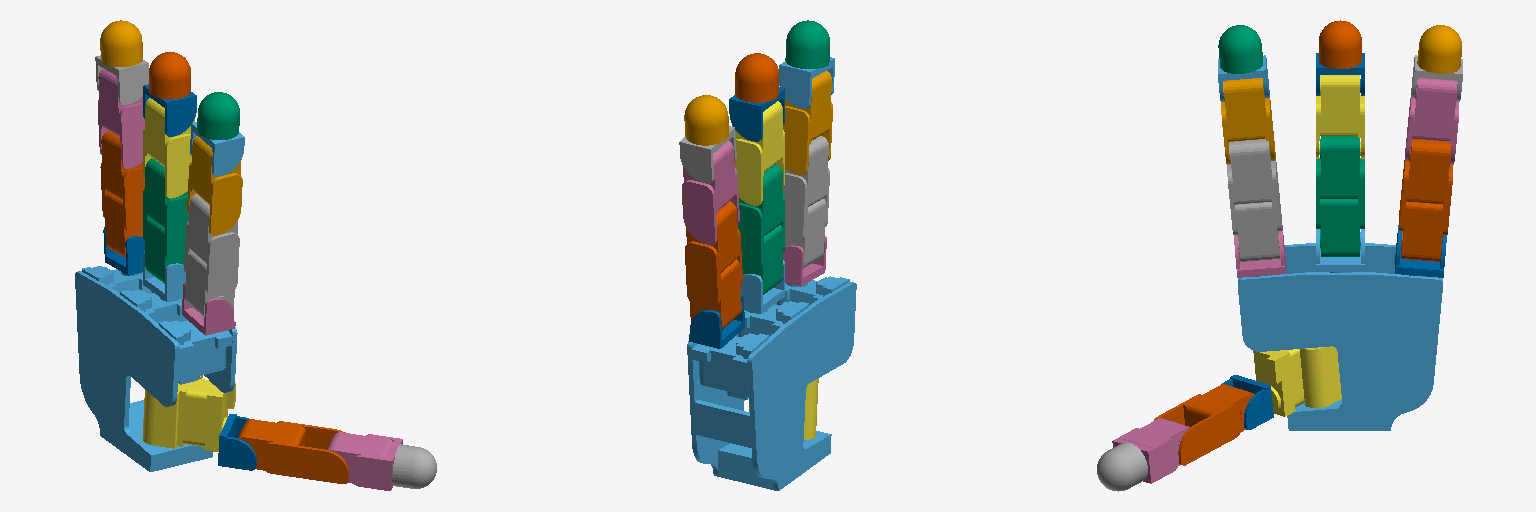
URDF robot description (allegro_left):
<?xml version='1.0' encoding='utf-8'?>
<robot name="allegro_left">
  <link name="hand_root" />
  <joint name="hand_root_joint" type="fixed">
    <origin rpy="0 0 0" xyz="0 0 0" />
    <parent link="hand_root" />
    <child link="base_link" />
  </joint>
  <mujoco>
    <compiler balanceinertia="true" discardvisual="false" fusestatic="false" inertiafromgeom="false" />
  </mujoco>
  <link name="base_link">
    <inertial>
      <mass value="0.4154" />
      <origin rpy="0 0 0" xyz="0 0 0" />
      <inertia ixx="1e-4" ixy="0" ixz="0" iyy="1e-4" iyz="0" izz="1e-4" />
    </inertial>
    <visual name="base_link_base_link_left_visual">
      <geometry>
        <mesh filename="meshes/visual/base_link_left.obj" />
      </geometry>
      <origin rpy="-1.570795 0 0" xyz="0 0 0 " />
    </visual>
    <collision>
      <origin rpy="0 0 0" xyz="-0.009 0.0 -0.023" />
      <geometry>
        <box size="0.0414 0.112 0.0448" />
      </geometry>
    </collision>
    <collision>
      <origin rpy="0 0 0" xyz="-0.009 0.0253 -0.0667" />
      <geometry>
        <box size="0.0414 0.0538 0.0428" />
      </geometry>
    </collision>
    <collision>
      <origin rpy="0 0 0" xyz="-0.009300 0.00557 -0.08874" />
      <geometry>
        <box size="0.0414 0.0720 0.013" />
      </geometry>
    </collision>
  </link>
  <link name="palm" />
  <joint name="palm_joint" type="fixed">
    <parent link="base_link" />
    <child link="palm" />
    <origin rpy="0.00000 -0.00000 0.00000" xyz="0 0 -0.065" />
  </joint>
  <link name="wrist" />
  <joint name="wrist_joint" type="fixed">
    <origin rpy="0 0 0" xyz="0 0 -0.03" />
    <parent link="palm" />
    <child link="wrist" />
  </joint>
  <link name="link_0.0">
    <visual name="link_0.0_link_0.0_visual">
      <geometry>
        <mesh filename="meshes/visual/link_0.0.obj" />
      </geometry>
    </visual>
    <collision>
      <geometry>
        <box size="0.0196 0.0275 0.0164" />
      </geometry>
      <origin rpy="0 0 0" xyz="0 0 0.0082" />
    </collision>
    <inertial>
      <mass value="0.0119" />
      <origin xyz="0 0 0" rpy="0 0 0" />
      <inertia ixx="1.01666658333e-06" ixy="0.0" ixz="0.0" iyy="6.47677333333e-07" iyz="0.0" izz="1.01666658333e-06" />
    </inertial>
  </link>
  <joint name="joint_0.0" type="revolute">
    <axis xyz="0 0 1" />
    <limit effort="10" lower="-0.47" upper="0.47" velocity="3.14" />
    <parent link="base_link" />
    <child link="link_0.0" />
    <origin rpy="-0.08726646255 0 0" xyz="0 0.0435 -0.001542" />
  </joint>
  <link name="link_1.0">
    <inertial>
      <mass value="0.065" />
      <origin xyz="0 0 0" rpy="0 0 0" />
      <inertia ixx="7.95654166667e-05" ixy="1.7199e-05" ixz="8.75875e-06" iyy="2.47088833333e-05" iyz="2.413125e-05" izz="7.95654166667e-05" />
    </inertial>
    <visual name="link_1.0_link_1.0_visual">
      <geometry>
        <mesh filename="meshes/visual/link_1.0.obj" />
      </geometry>
    </visual>
    <collision>
      <geometry>
        <box size="0.0196 0.0275 0.054" />
      </geometry>
      <origin rpy="0 0 0" xyz="0 0 0.027" />
    </collision>
  </link>
  <joint name="joint_1.0" type="revolute">
    <limit effort="10" lower="-0.196" upper="1.61" velocity="3.14" />
    <axis xyz="0 1 0" />
    <parent link="link_0.0" />
    <child link="link_1.0" />
    <origin xyz="0 0 0.0164" />
  </joint>
  <link name="link_2.0">
    <inertial>
      <mass value="0.0355" />
      <origin xyz="0 0 0" rpy="0 0 0" />
      <inertia ixx="2.63979183333e-05" ixy="6.67968e-06" ixz="4.783625e-06" iyy="1.34948516667e-05" iyz="9.372e-06" izz="2.63979183333e-05" />
    </inertial>
    <visual name="link_2.0_link_2.0_visual">
      <geometry>
        <mesh filename="meshes/visual/link_2.0.obj" />
      </geometry>
    </visual>
    <collision>
      <geometry>
        <box size="0.0196 0.0275 0.0384" />
      </geometry>
      <origin rpy="0 0 0" xyz="0 0 0.0192" />
    </collision>
  </link>
  <joint name="joint_2.0" type="revolute">
    <axis xyz="0 1 0" />
    <limit effort="10" lower="-0.174" upper="1.709" velocity="3.14" />
    <parent link="link_1.0" />
    <child link="link_2.0" />
    <origin xyz="0 0 0.054" />
  </joint>
  <link name="link_3.0">
    <visual name="link_3.0_link_3.0_visual">
      <geometry>
        <mesh filename="meshes/visual/link_3.0.obj" />
      </geometry>
    </visual>
    <collision>
      <geometry>
        <box size="0.0196 0.0269 0.022" />
      </geometry>
      <origin rpy="0 0 0" xyz="0 0 0.0047" />
    </collision>
    <inertial>
      <origin rpy="0 0 0" xyz="0 0 0.01335" />
      <mass value="0.02" />
      <inertia ixx="1e-5" ixy="0.0" ixz="0.0" iyy="2e-5" iyz="0.0" izz="2e-5" />
    </inertial>
  </link>
  <joint name="joint_3.0" type="revolute">
    <axis xyz="0 1 0" />
    <limit effort="10" lower="-0.227" upper="1.618" velocity="3.14" />
    <parent link="link_2.0" />
    <child link="link_3.0" />
    <origin xyz="0 0 0.0384" />
  </joint>
  <link name="link_3.0_tip">
    <inertial>
      <mass value="0.0168" />
      <origin xyz="0 0 0" rpy="0 0 0" />
      <inertia ixx="9.68e-07" ixy="0" ixz="0" iyy="9.68e-07" iyz="0" izz="9.68e-07" />
    </inertial>
    <visual name="link_3.0_tip_link_tip_visual">
      <origin rpy="0 0 0" xyz="0 0 -0.012" />
      <geometry>
        <mesh filename="meshes/visual/link_tip.obj" />
      </geometry>
    </visual>
    <collision>
      <origin rpy="0 0 0" xyz="0 0 -0.012" />
      <geometry>
        <mesh filename="meshes/collision/link_tip_collision000.obj" />
      </geometry>
    </collision>
  </link>
  <joint name="joint_3.0_tip" type="fixed">
    <parent link="link_3.0" />
    <child link="link_3.0_tip" />
    <origin rpy="0 0 0" xyz="0 0 0.0387" />
  </joint>
  <link name="link_4.0">
    <inertial>
      <mass value="0.005" />
      <origin xyz="0 0 0" />
      <inertia ixx="5.1458e-05" iyy="5.1458e-05" izz="6.125e-05" ixy="0" ixz="0" iyz="0" />
    </inertial>
    <visual name="link_4.0_link_0.0_visual">
      <geometry>
        <mesh filename="meshes/visual/link_0.0.obj" />
      </geometry>
    </visual>
    <collision>
      <geometry>
        <box size="0.0196 0.0275 0.0164" />
      </geometry>
      <origin rpy="0 0 0" xyz="0 0 0.0082" />
    </collision>
  </link>
  <joint name="joint_4.0" type="revolute">
    <axis xyz="0 0 1" />
    <limit effort="10" lower="-0.47" upper="0.47" velocity="3.14" />
    <parent link="base_link" />
    <child link="link_4.0" />
    <origin rpy="0.0 0 0" xyz="0 0 0.0007" />
  </joint>
  <link name="link_5.0">
    <inertial>
      <mass value="0.065" />
      <origin xyz="0 0 0" rpy="0 0 0" />
      <inertia ixx="7.95654166667e-05" ixy="1.7199e-05" ixz="8.75875e-06" iyy="2.47088833333e-05" iyz="2.413125e-05" izz="7.95654166667e-05" />
    </inertial>
    <visual name="link_5.0_link_1.0_visual">
      <geometry>
        <mesh filename="meshes/visual/link_1.0.obj" />
      </geometry>
    </visual>
    <collision>
      <geometry>
        <box size="0.0196 0.0275 0.054" />
      </geometry>
      <origin rpy="0 0 0" xyz="0 0 0.027" />
    </collision>
  </link>
  <joint name="joint_5.0" type="revolute">
    <limit effort="10" lower="-0.196" upper="1.61" velocity="3.14" />
    <axis xyz="0 1 0" />
    <parent link="link_4.0" />
    <child link="link_5.0" />
    <origin xyz="0 0 0.0164" />
  </joint>
  <link name="link_6.0">
    <inertial>
      <mass value="0.0355" />
      <origin xyz="0 0 0" rpy="0 0 0" />
      <inertia ixx="2.63979183333e-05" ixy="6.67968e-06" ixz="4.783625e-06" iyy="1.34948516667e-05" iyz="9.372e-06" izz="2.63979183333e-05" />
    </inertial>
    <visual name="link_6.0_link_2.0_visual">
      <geometry>
        <mesh filename="meshes/visual/link_2.0.obj" />
      </geometry>
    </visual>
    <collision>
      <geometry>
        <box size="0.0196 0.0275 0.0384" />
      </geometry>
      <origin rpy="0 0 0" xyz="0 0 0.0192" />
    </collision>
  </link>
  <joint name="joint_6.0" type="revolute">
    <axis xyz="0 1 0" />
    <limit effort="10" lower="-0.174" upper="1.709" velocity="3.14" />
    <parent link="link_5.0" />
    <child link="link_6.0" />
    <origin xyz="0 0 0.054" />
  </joint>
  <link name="link_7.0">
    <inertial>
      <mass value="0.0388" />
      <origin xyz="0 0 0" rpy="0 0 0" />
      <inertia ixx="3.29223173333e-05" ixy="8.042076e-06" ixz="5.2283e-06" iyy="1.47493026667e-5" iyz="1.1283525e-5" izz="3.29223173333e-05" />
    </inertial>
    <visual name="link_7.0_link_3.0_visual">
      <geometry>
        <mesh filename="meshes/visual/link_3.0.obj" />
      </geometry>
    </visual>
    <collision>
      <geometry>
        <box size="0.0196 0.0269 0.022" />
      </geometry>
      <origin rpy="0 0 0" xyz="0 0 0.0047" />
    </collision>
  </link>
  <joint name="joint_7.0" type="revolute">
    <axis xyz="0 1 0" />
    <limit effort="10" lower="-0.227" upper="1.618" velocity="3.14" />
    <parent link="link_6.0" />
    <child link="link_7.0" />
    <origin xyz="0 0 0.0384" />
  </joint>
  <link name="link_7.0_tip">
    <inertial>
      <mass value="0.0096" />
      <origin xyz="0 0 0" rpy="0 0 0" />
      <inertia ixx="4.701248e-06" ixy="1.255968e-06" ixz="1.2936e-06" iyy="3.649312e-06" iyz="1.7622e-06" izz="4.701248e-06" />
    </inertial>
    <visual name="link_7.0_tip_link_tip_visual">
      <origin rpy="0 0 0" xyz="0 0 -0.012" />
      <geometry>
        <mesh filename="meshes/visual/link_tip.obj" />
      </geometry>
    </visual>
    <collision>
      <origin rpy="0 0 0" xyz="0 0 -0.012" />
      <geometry>
        <mesh filename="meshes/collision/link_tip_collision000.obj" />
      </geometry>
    </collision>
  </link>
  <joint name="joint_7.0_tip" type="fixed">
    <parent link="link_7.0" />
    <child link="link_7.0_tip" />
    <origin rpy="0 0 0" xyz="0 0 0.0387" />
  </joint>
  <link name="link_8.0">
    <inertial>
      <mass value="0.005" />
      <origin xyz="0 0 0" />
      <inertia ixx="5.1458e-05" iyy="5.1458e-05" izz="6.125e-05" ixy="0" ixz="0" iyz="0" />
    </inertial>
    <visual name="link_8.0_link_0.0_visual">
      <geometry>
        <mesh filename="meshes/visual/link_0.0.obj" />
      </geometry>
    </visual>
    <collision>
      <geometry>
        <box size="0.0196 0.0275 0.0164" />
      </geometry>
      <origin rpy="0 0 0" xyz="0 0 0.0082" />
    </collision>
  </link>
  <joint name="joint_8.0" type="revolute">
    <axis xyz="0 0 1" />
    <limit effort="10" lower="-0.47" upper="0.47" velocity="3.14" />
    <parent link="base_link" />
    <child link="link_8.0" />
    <origin rpy="0.08726646255 0 0" xyz="0 -0.0435 -0.001542" />
  </joint>
  <link name="link_9.0">
    <inertial>
      <mass value="0.065" />
      <origin xyz="0 0 0" rpy="0 0 0" />
      <inertia ixx="7.95654166667e-05" ixy="1.7199e-05" ixz="8.75875e-06" iyy="2.47088833333e-05" iyz="2.413125e-05" izz="7.95654166667e-05" />
    </inertial>
    <visual name="link_9.0_link_1.0_visual">
      <geometry>
        <mesh filename="meshes/visual/link_1.0.obj" />
      </geometry>
    </visual>
    <collision>
      <geometry>
        <box size="0.0196 0.0275 0.054" />
      </geometry>
      <origin rpy="0 0 0" xyz="0 0 0.027" />
    </collision>
  </link>
  <joint name="joint_9.0" type="revolute">
    <limit effort="10" lower="-0.196" upper="1.61" velocity="3.14" />
    <axis xyz="0 1 0" />
    <parent link="link_8.0" />
    <child link="link_9.0" />
    <origin xyz="0 0 0.0164" />
  </joint>
  <link name="link_10.0">
    <inertial>
      <mass value="0.0355" />
      <origin xyz="0 0 0" rpy="0 0 0" />
      <inertia ixx="2.63979183333e-05" ixy="6.67968e-06" ixz="4.783625e-06" iyy="1.34948516667e-05" iyz="9.372e-06" izz="2.63979183333e-05" />
    </inertial>
    <visual name="link_10.0_link_2.0_visual">
      <geometry>
        <mesh filename="meshes/visual/link_2.0.obj" />
      </geometry>
    </visual>
    <collision>
      <geometry>
        <box size="0.0196 0.0275 0.0384" />
      </geometry>
      <origin rpy="0 0 0" xyz="0 0 0.0192" />
    </collision>
  </link>
  <joint name="joint_10.0" type="revolute">
    <axis xyz="0 1 0" />
    <limit effort="10" lower="-0.174" upper="1.709" velocity="3.14" />
    <parent link="link_9.0" />
    <child link="link_10.0" />
    <origin xyz="0 0 0.054" />
  </joint>
  <link name="link_11.0">
    <inertial>
      <mass value="0.0096" />
      <origin xyz="0 0 0" rpy="0 0 0" />
      <inertia ixx="4.701248e-06" ixy="1.255968e-06" ixz="1.2936e-06" iyy="3.649312e-06" iyz="1.7622e-06" izz="4.701248e-06" />
    </inertial>
    <visual name="link_11.0_link_3.0_visual">
      <geometry>
        <mesh filename="meshes/visual/link_3.0.obj" />
      </geometry>
    </visual>
    <collision>
      <geometry>
        <box size="0.0196 0.0269 0.022" />
      </geometry>
      <origin rpy="0 0 0" xyz="0 0 0.0047" />
    </collision>
  </link>
  <joint name="joint_11.0" type="revolute">
    <axis xyz="0 1 0" />
    <limit effort="10" lower="-0.227" upper="1.618" velocity="3.14" />
    <parent link="link_10.0" />
    <child link="link_11.0" />
    <origin xyz="0 0 0.0384" />
  </joint>
  <link name="link_11.0_tip">
    <inertial>
      <mass value="0.0168" />
      <origin xyz="0 0 0" rpy="0 0 0" />
      <inertia ixx="9.68e-07" ixy="0" ixz="0" iyy="9.68e-07" iyz="0" izz="9.68e-07" />
    </inertial>
    <visual name="link_11.0_tip_link_tip_visual">
      <origin rpy="0 0 0" xyz="0 0 -0.012" />
      <geometry>
        <mesh filename="meshes/visual/link_tip.obj" />
      </geometry>
    </visual>
    <collision>
      <origin rpy="0 0 0" xyz="0 0 -0.012" />
      <geometry>
        <mesh filename="meshes/collision/link_tip_collision000.obj" />
      </geometry>
    </collision>
  </link>
  <joint name="joint_11.0_tip" type="fixed">
    <parent link="link_11.0" />
    <child link="link_11.0_tip" />
    <origin rpy="0 0 0" xyz="0 0 0.0387" />
  </joint>
  <link name="link_12.0">
    <inertial>
      <mass value="0.0176" />
      <origin xyz="0 0 0" rpy="0 0 0" />
      <inertia ixx="1.89273333333e-5" ixy="7.16716e-06" ixz="5.35568e-06" iyy="1.43008213333e-05" iyz="6.8068e-06" izz="1.89273333333e-05" />
    </inertial>
    <visual name="link_12.0_link_12.0_left_visual">
      <geometry>
        <mesh filename="meshes/visual/link_12.0_left.obj" />
      </geometry>
      <origin rpy="3.14159 0 0" xyz="0 0 0" />
    </visual>
    <collision>
      <geometry>
        <box size="0.0358 0.034 0.0455" />
      </geometry>
      <origin rpy="0 0 0" xyz="-0.0179 0.009 0.0145" />
    </collision>
  </link>
  <joint name="joint_12.0" type="revolute">
    <axis xyz="1 0 0" />
    <limit effort="10" lower="0.263" upper="1.396" velocity="3.14" />
    <parent link="base_link" />
    <child link="link_12.0" />
    <origin xyz="-0.0182 -0.019333 -0.045987" rpy="0 -1.65806278845 1.5707963259" />
  </joint>
  <link name="link_13.0">
    <inertial>
      <mass value="0.0119" />
      <origin xyz="0 0 0" rpy="0 0 0" />
      <inertia ixx="4.24250866667e-06" ixy="1.032087e-06" ixz="1.603525e-06" iyy="4.52362633333e-06" iyz="1.44808125e-06" izz="4.24250866667e-06" />
    </inertial>
    <visual name="link_13.0_link_13.0_visual">
      <geometry>
        <mesh filename="meshes/visual/link_13.0.obj" />
      </geometry>
    </visual>
    <collision>
      <geometry>
        <box size="0.0196 0.0275 0.0177" />
      </geometry>
      <origin rpy="0 0 0" xyz="0 0 0.00885" />
    </collision>
  </link>
  <joint name="joint_13.0" type="revolute">
    <axis xyz="0 0 -1" />
    <limit effort="10" lower="-0.105" upper="1.163" velocity="3.14" />
    <parent link="link_12.0" />
    <child link="link_13.0" />
    <origin xyz="-0.027 0.005 0.0399" />
  </joint>
  <link name="link_14.0">
    <inertial>
      <mass value="0.038" />
      <origin xyz="0 0 0" rpy="0 0 0" />
      <inertia ixx="4.30439933333e-05" ixy="9.57068e-06" ixz="5.1205e-06" iyy="1.44451933333e-05" iyz="1.342825e-05" izz="4.30439933333e-05" />
    </inertial>
    <visual name="link_14.0_link_14.0_visual">
      <geometry>
        <mesh filename="meshes/visual/link_14.0.obj" />
      </geometry>
    </visual>
    <collision>
      <geometry>
        <box size="0.0196 0.0275 0.0514" />
      </geometry>
      <origin rpy="0 0 0" xyz="0 0 0.0257" />
    </collision>
  </link>
  <joint name="joint_14.0" type="revolute">
    <axis xyz="0 1 0" />
    <limit effort="10" lower="-0.189" upper="1.644" velocity="3.14" />
    <parent link="link_13.0" />
    <child link="link_14.0" />
    <origin xyz="0 0 0.0177" />
  </joint>
  <link name="link_15.0">
    <inertial>
      <mass value="0.0388" />
      <origin xyz="0 0 0" rpy="0 0 0" />
      <inertia ixx="3.29223173333e-05" ixy="8.042076e-06" ixz="5.2283e-06" iyy="1.47493026667e-5" iyz="1.1283525e-5" izz="3.29223173333e-05" />
    </inertial>
    <visual name="link_15.0_link_15.0_visual">
      <geometry>
        <mesh filename="meshes/visual/link_15.0.obj" />
      </geometry>
    </visual>
    <collision>
      <geometry>
        <box size="0.0196 0.0269 0.04" />
      </geometry>
      <origin rpy="0 0 0" xyz="0 0 0.01125" />
    </collision>
  </link>
  <joint name="joint_15.0" type="revolute">
    <axis xyz="0 1 0" />
    <limit effort="10" lower="-0.162" upper="1.719" velocity="3.14" />
    <parent link="link_14.0" />
    <child link="link_15.0" />
    <origin xyz="0 0 0.0514" />
  </joint>
  <link name="link_15.0_tip">
    <inertial>
      <mass value="0.0168" />
      <origin xyz="0 0 0" rpy="0 0 0" />
      <inertia ixx="9.68e-07" ixy="0" ixz="0" iyy="9.68e-07" iyz="0" izz="9.68e-07" />
    </inertial>
    <visual name="link_15.0_tip_link_tip_visual">
      <origin rpy="0 0 0" xyz="0 0 -0.012" />
      <geometry>
        <mesh filename="meshes/visual/link_tip.obj" />
      </geometry>
    </visual>
    <collision>
      <origin rpy="0 0 0" xyz="0 0 -0.012" />
      <geometry>
        <mesh filename="meshes/collision/link_tip_collision000.obj" />
      </geometry>
    </collision>
  </link>
  <joint name="joint_15.0_tip" type="fixed">
    <parent link="link_15.0" />
    <child link="link_15.0_tip" />
    <origin rpy="0 0 0" xyz="0 0 0.0543" />
  </joint>
</robot>

--- What the picture shows (computed from the rendered views, not written in the file) ---
3 views of the same robot in one strip: view 1: azimuth 30°, elevation 25°; view 2: azimuth 150°, elevation 25°; view 3: azimuth 270°, elevation 25° (orthographic).
Model allegro_left with 24 links and 23 joints (16 revolute, 7 fixed), rooted at hand_root, posed joints at zero except 1 at the middle of their limits (joint_12.0 = 0.8295).
Links seen in each view (by area): view 1: base_link, link_14.0, link_12.0, link_9.0, link_5.0, link_1.0, link_10.0, link_15.0, link_6.0, link_2.0, link_11.0_tip, link_7.0_tip (+9 smaller); view 2: base_link, link_1.0, link_9.0, link_5.0, link_2.0, link_10.0, link_6.0, link_3.0_tip, link_7.0_tip, link_11.0_tip, link_0.0, link_11.0 (+5 smaller); view 3: base_link, link_9.0, link_1.0, link_5.0, link_12.0, link_14.0, link_10.0, link_2.0, link_6.0, link_15.0, link_15.0_tip, link_3.0_tip (+9 smaller).
Link boxes in pixels (x1,y1,x2,y2): base_link: [75, 266, 237, 471]; link_14.0: [238, 419, 348, 483]; link_12.0: [142, 375, 235, 451]; link_9.0: [184, 194, 239, 316]; link_5.0: [143, 158, 188, 283]; link_1.0: [100, 131, 144, 257]; link_10.0: [187, 136, 242, 235]; link_15.0: [327, 432, 402, 490]; link_6.0: [143, 98, 194, 198]; link_2.0: [98, 68, 144, 168]; link_11.0_tip: [197, 92, 239, 139]; link_7.0_tip: [149, 52, 190, 99]; base_link: [687, 276, 856, 490]; link_1.0: [685, 201, 742, 329]; link_9.0: [783, 136, 829, 267]; link_5.0: [738, 164, 784, 294]; link_2.0: [682, 141, 739, 244]; link_10.0: [783, 71, 832, 174]; link_6.0: [732, 101, 784, 205]; link_3.0_tip: [684, 95, 728, 145]; link_7.0_tip: [735, 53, 778, 102]; link_11.0_tip: [785, 20, 829, 68]; link_0.0: [689, 292, 744, 348]; link_11.0: [779, 57, 834, 108]; base_link: [1238, 243, 1442, 430]; link_9.0: [1227, 139, 1281, 261]; link_1.0: [1399, 139, 1452, 261]; link_5.0: [1316, 136, 1364, 256]; link_12.0: [1253, 346, 1341, 416]; link_14.0: [1154, 384, 1254, 465]; link_10.0: [1221, 78, 1275, 164]; link_2.0: [1405, 78, 1458, 164]; link_6.0: [1316, 75, 1364, 158]; link_15.0: [1112, 418, 1189, 483]; link_15.0_tip: [1097, 442, 1147, 491]; link_3.0_tip: [1417, 25, 1461, 73].
Bounding box of the posed robot: 0.1315 × 0.2022 × 0.2432 m (x, y, z).
21 mesh visuals loaded from 10 distinct referenced files (10 OBJ).
